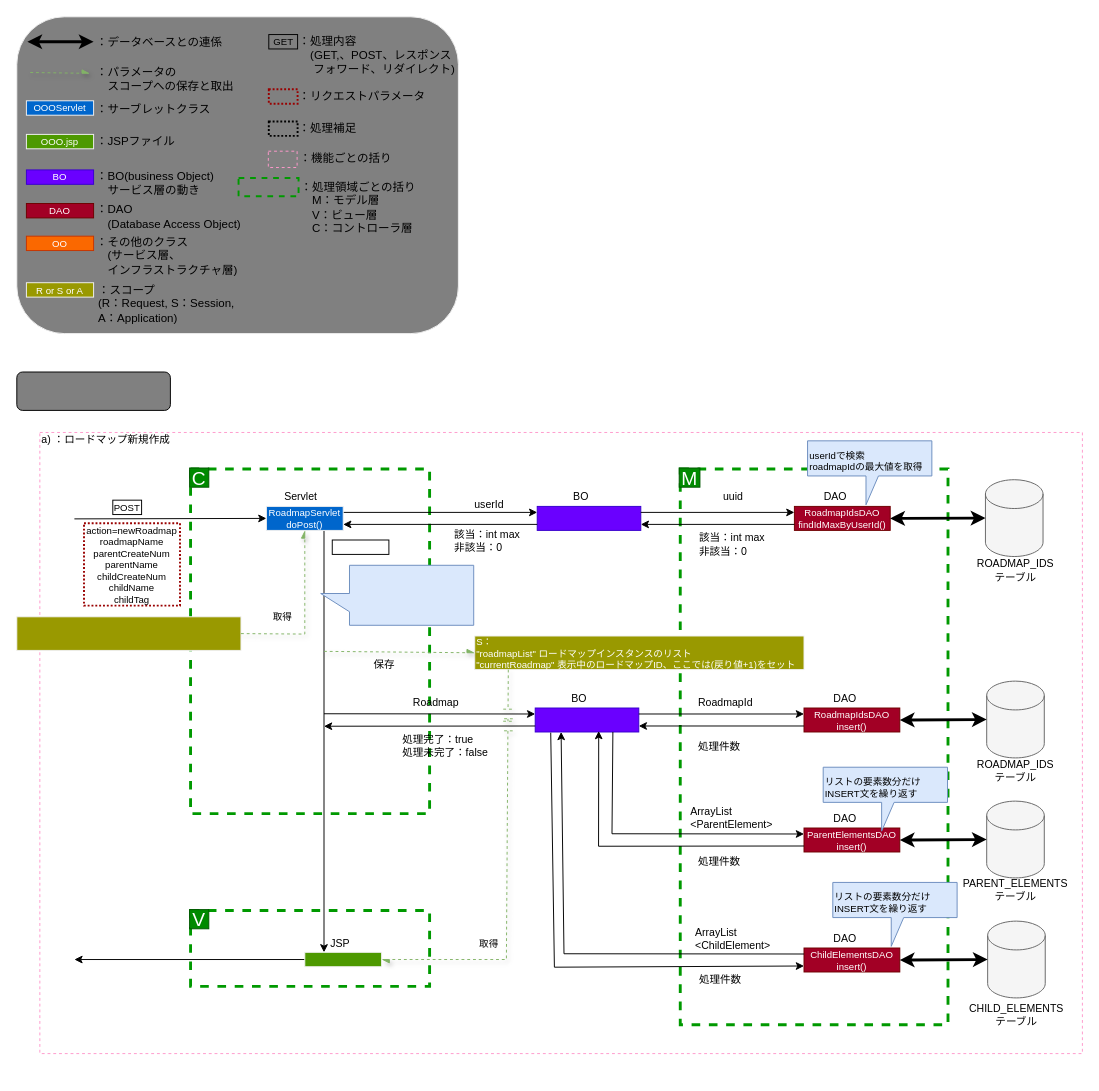
The diagram is 1099 pixels wide and 1091 high, and some of its shapes have lost their labels. The shapes that lost their labels are listed below. From the top down, each one's centre as x and y in pixels, then its label:
the point at 268,187: M or V or C
the point at 93,390: ③ロードマップ作成・保存機能
the point at 588,517: RoadmapLogic findRoadmapIdMax ()
the point at 360,546: フォワード
the point at 397,594: roadmapId=(戻り値+1)として、Roadmapインスタンスに入力値など必要情報を格納 roadmapListに追加
the point at 128,633: S： "userId" ユーザーID "roadmapList" ロードマップインスタンスのリスト
the point at 586,719: RoadmapLogic createRoadmap()
the point at 343,959: roadmap.jsp
